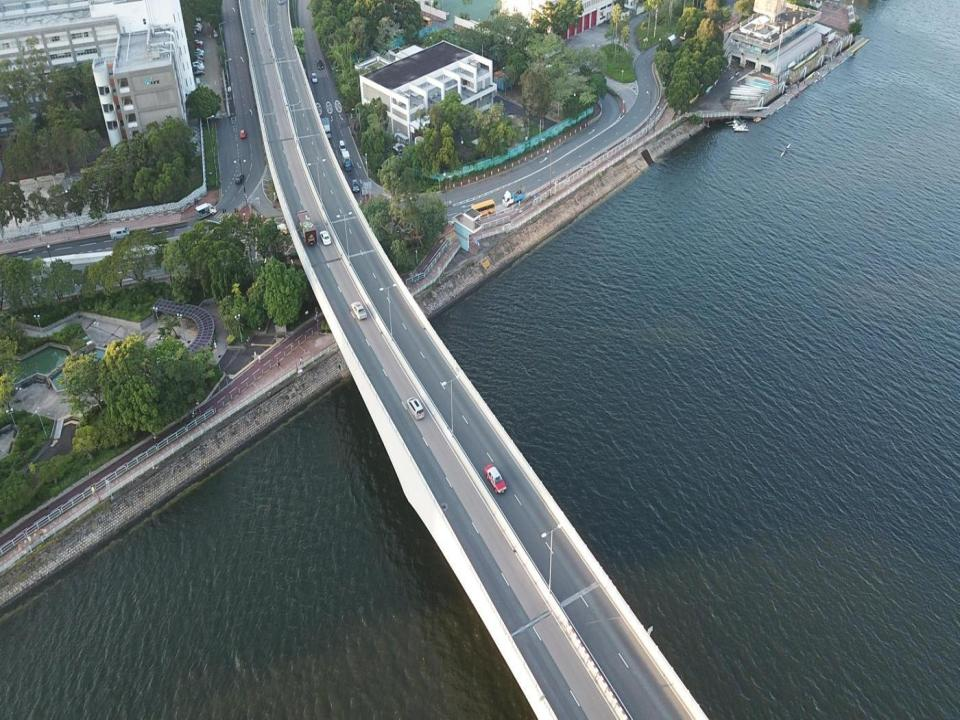bus: (470, 198, 496, 219)
car: (483, 464, 507, 494), (351, 301, 367, 320), (320, 230, 331, 244), (351, 178, 359, 192), (190, 61, 204, 68), (236, 172, 244, 184), (192, 68, 204, 75), (192, 56, 204, 63), (191, 48, 205, 54), (190, 39, 204, 45), (316, 60, 324, 70), (191, 52, 204, 58), (189, 26, 202, 32), (192, 23, 203, 30), (190, 27, 202, 33), (194, 14, 201, 23), (192, 66, 204, 71), (192, 43, 202, 49), (240, 130, 246, 139), (213, 28, 218, 38), (312, 73, 317, 83)
truck: (295, 210, 317, 247), (501, 185, 526, 207), (194, 203, 217, 219), (341, 150, 352, 172), (321, 117, 331, 138)
van: (406, 396, 425, 420), (110, 228, 130, 241), (417, 15, 431, 28), (338, 140, 346, 154)
